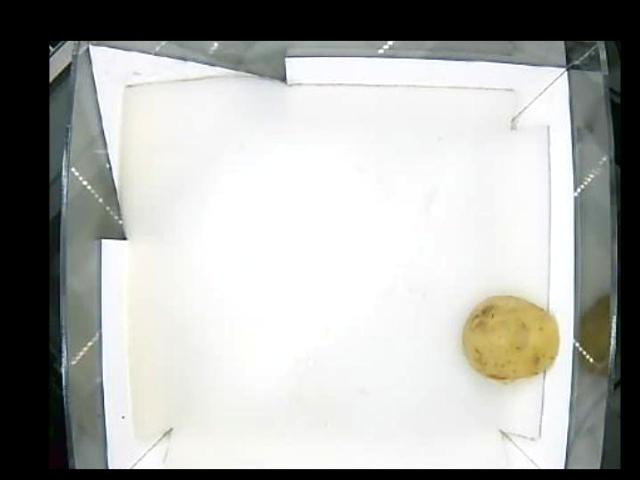Potato: (463, 294, 559, 383)
